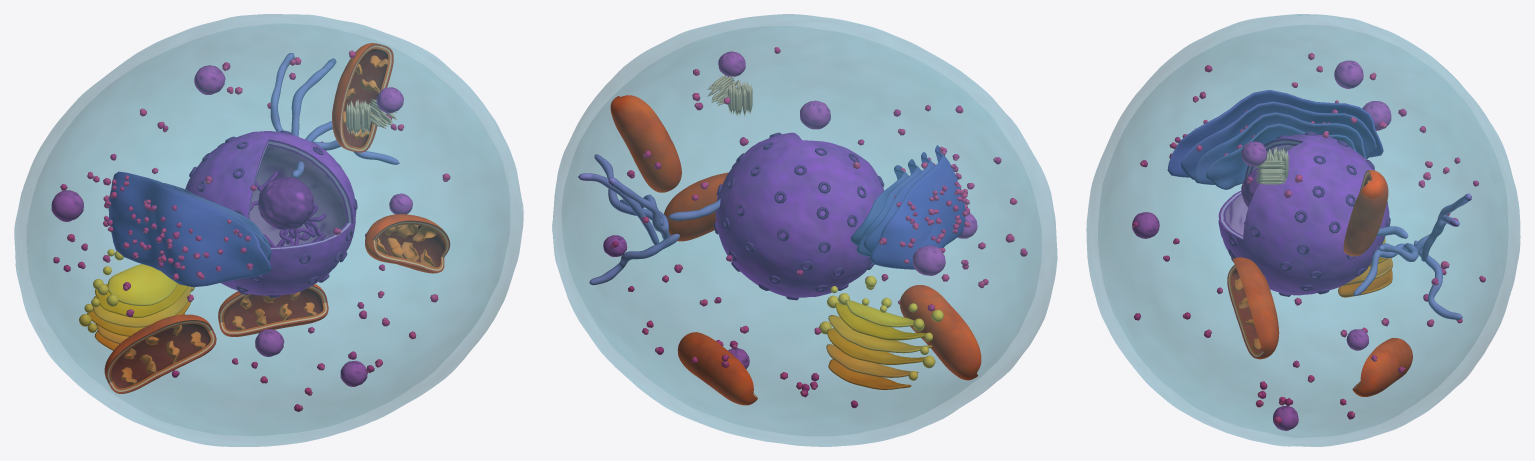
File: animal-cell.glb
3 views of the same model, side by side, from view 1: azimuth 30°, elevation 25°; view 2: azimuth 150°, elevation 25°; view 3: azimuth 270°, elevation 25° (orthographic). The views are drawn at different scales.
Parts seen in each view (by area): view 1: Membrane_Mesh, AnimalCell_Mesh (×4), Nucleus_Mesh (×3), Golgi, Mito_2_Mesh (×2), Mito_3_Mesh (×2), Mito_1_Mesh (×2), Mito_4_Mesh (×2), Ribo_2_Mesh, Nucleolus_Mesh, Ribo_1_Mesh; view 2: Membrane_Mesh, Nucleus_Mesh (×2), AnimalCell_Mesh (×4), Golgi, Mito_4_Mesh, Mito_2_Mesh, Mito_3_Mesh, Ribo_2_Mesh, Mito_1_Mesh, Ribo_1_Mesh; view 3: Membrane_Mesh, Nucleus_Mesh (×2), AnimalCell_Mesh (×4), Mito_1_Mesh, Ribo_2_Mesh, Mito_4_Mesh, Mito_3_Mesh, Golgi.
Boxes of the visible parts, x1,y1,x2,y2 form: Membrane_Mesh: (14,14,523,446); AnimalCell_Mesh (×4): (51,53,412,386); Nucleus_Mesh (×3): (185,130,357,297); Golgi: (79,249,194,350); Mito_2_Mesh (×2): (104,314,216,393); Mito_3_Mesh (×2): (218,284,328,336); Mito_1_Mesh (×2): (365,214,450,273); Mito_4_Mesh (×2): (332,43,393,152); Ribo_2_Mesh: (53,50,450,411); Nucleolus_Mesh: (258,177,313,229); Ribo_1_Mesh: (103,175,250,279); Membrane_Mesh: (552,14,1057,446); Nucleus_Mesh (×2): (714,132,884,300); AnimalCell_Mesh (×4): (578,51,977,368); Golgi: (819,276,943,389); Mito_4_Mesh: (610,95,681,192); Mito_2_Mesh: (899,285,981,380); Mito_3_Mesh: (677,332,757,405); Ribo_2_Mesh: (611,47,1027,408); Mito_1_Mesh: (664,172,728,241); Ribo_1_Mesh: (894,146,970,263); Membrane_Mesh: (1086,14,1520,446); Nucleus_Mesh (×2): (1218,131,1390,296); AnimalCell_Mesh (×4): (1132,60,1471,430); Mito_1_Mesh: (1227,257,1279,359); Ribo_2_Mesh: (1132,53,1485,424); Mito_4_Mesh: (1343,170,1388,256); Mito_3_Mesh: (1352,337,1412,396); Golgi: (1338,237,1392,297).
Size of the model in its own units: 5.71 by 4.62 by 4.81.
